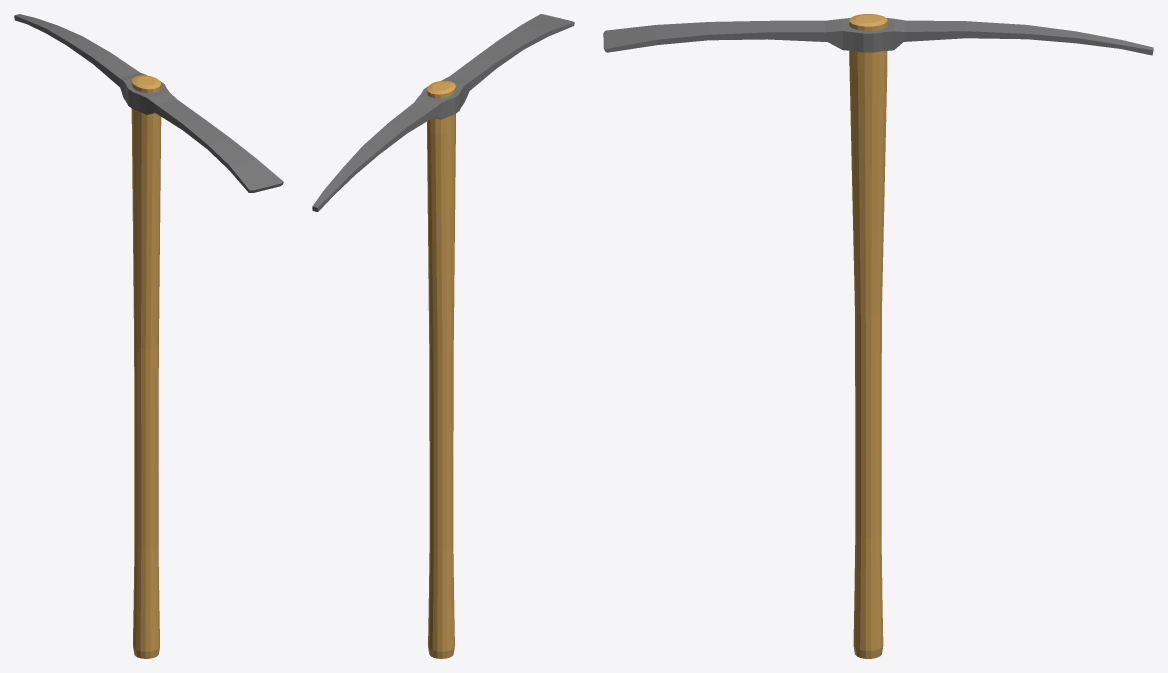
The model's file is pickaxe.gltf.
3 views of the same model, side by side, from view 1: azimuth 30°, elevation 25°; view 2: azimuth 150°, elevation 25°; view 3: azimuth 270°, elevation 25° (orthographic). The views are drawn at different scales.
Visible parts, largest first — view 1: Circle, Circle.001; view 2: Circle, Circle.001; view 3: Circle, Circle.001.
Boxes of the visible parts, <box> form: Circle: <box>131,75,161,658</box>; Circle.001: <box>14,14,283,192</box>; Circle: <box>427,80,455,658</box>; Circle.001: <box>312,14,574,211</box>; Circle: <box>849,14,887,658</box>; Circle.001: <box>603,18,1153,55</box>.
Bounding box in the file's own units: 0.2948 × 4.68 × 3.67.
